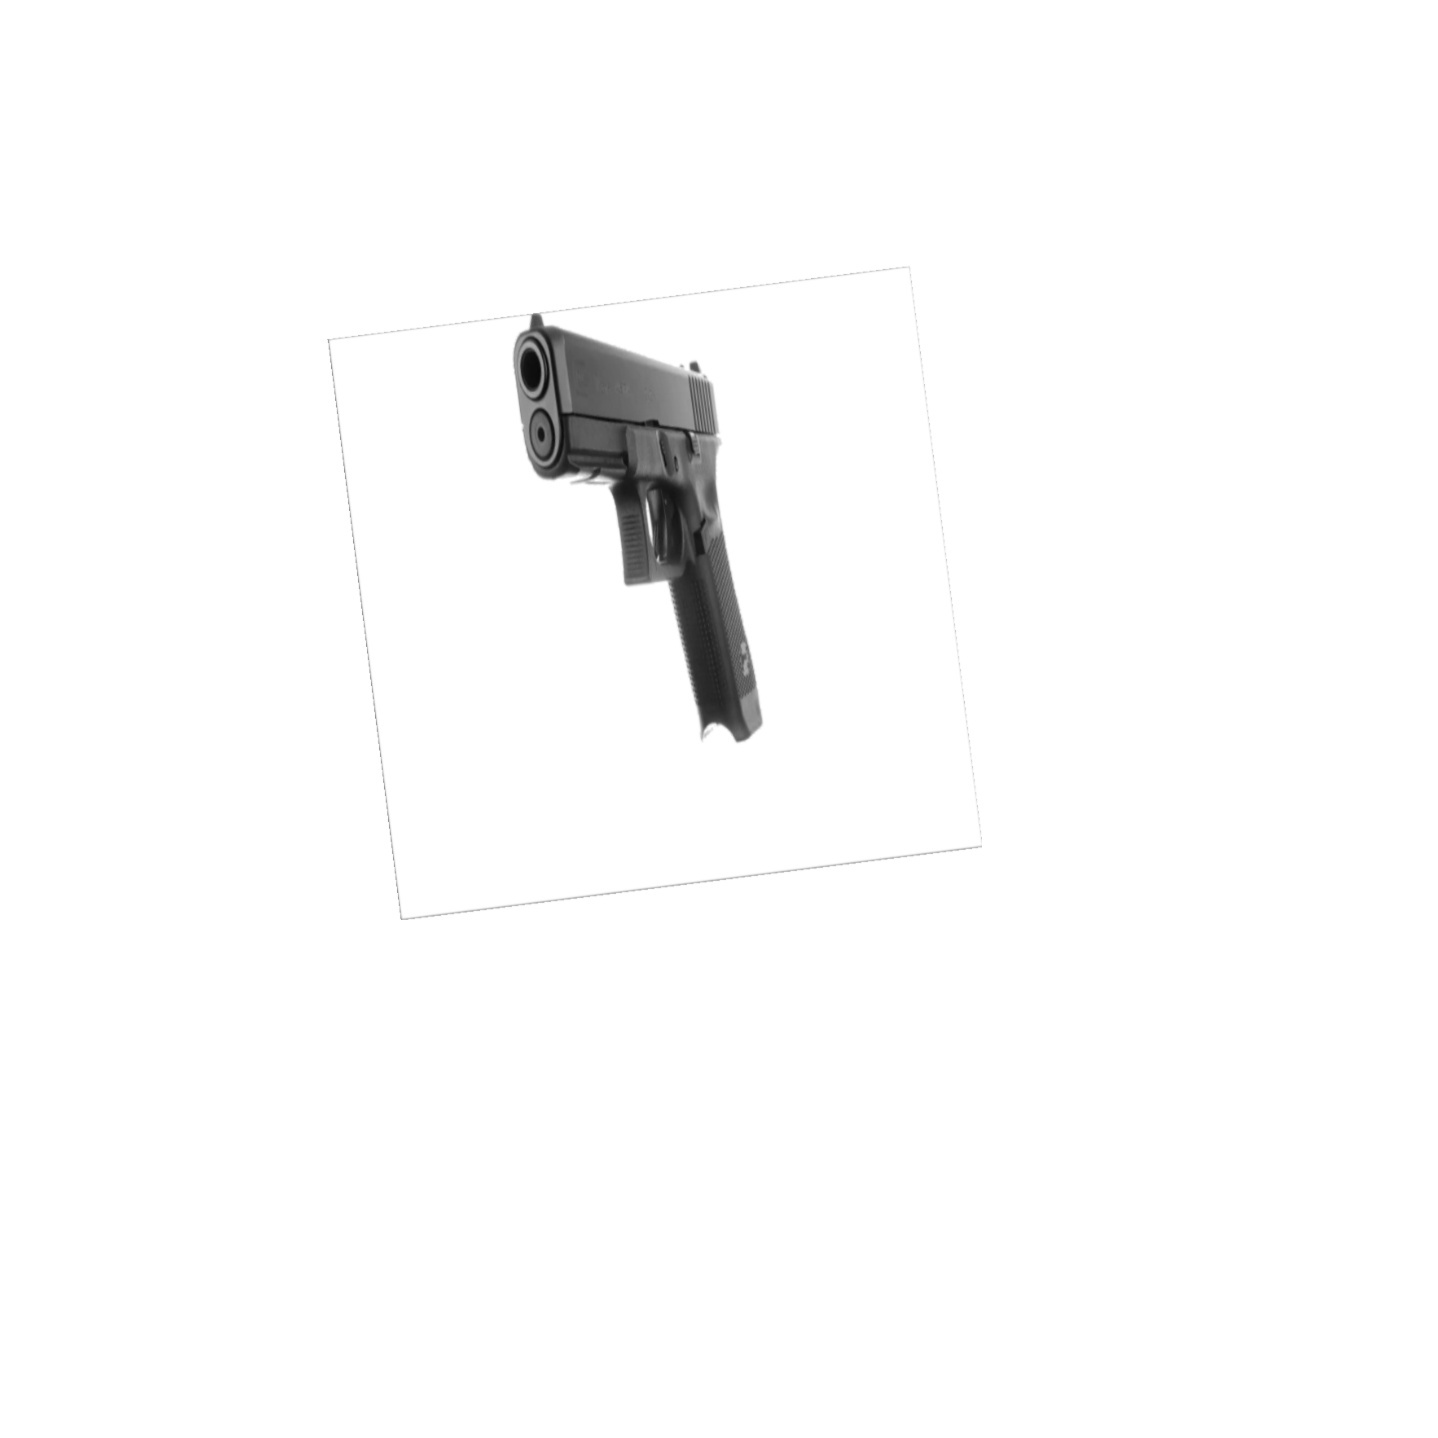gun: (510, 308, 762, 744)
